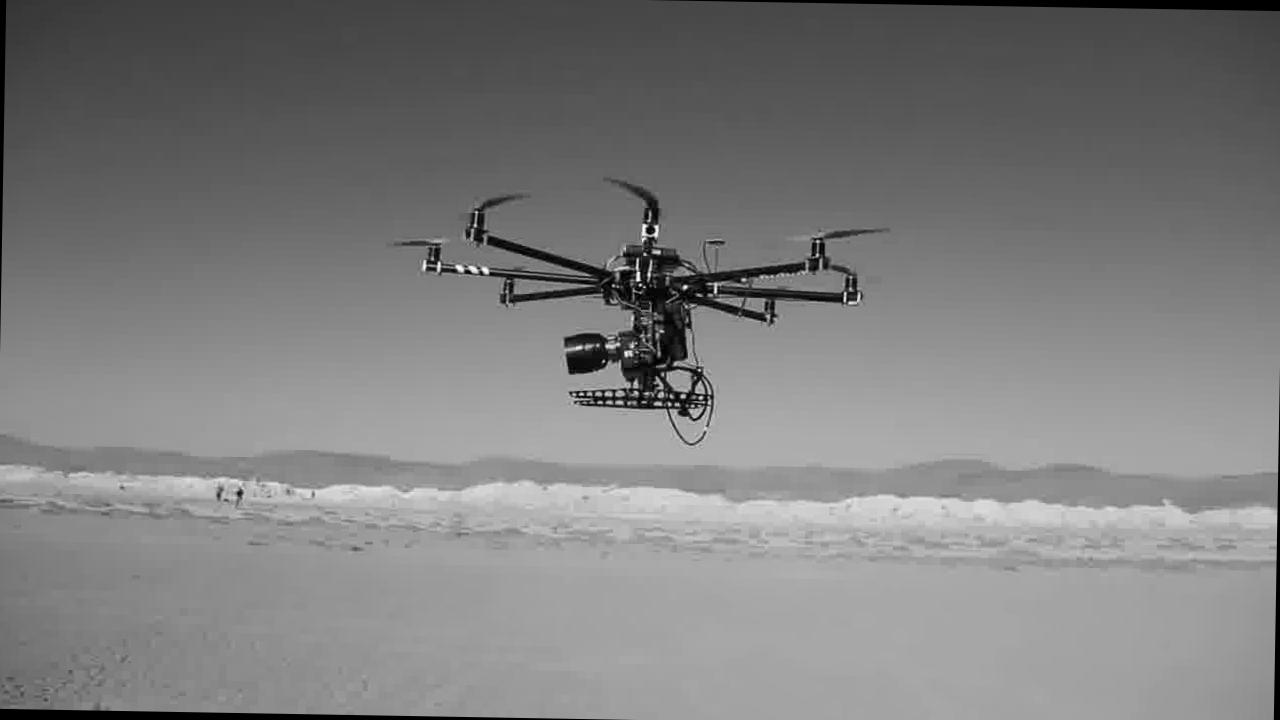drone: (406, 174, 876, 422)
